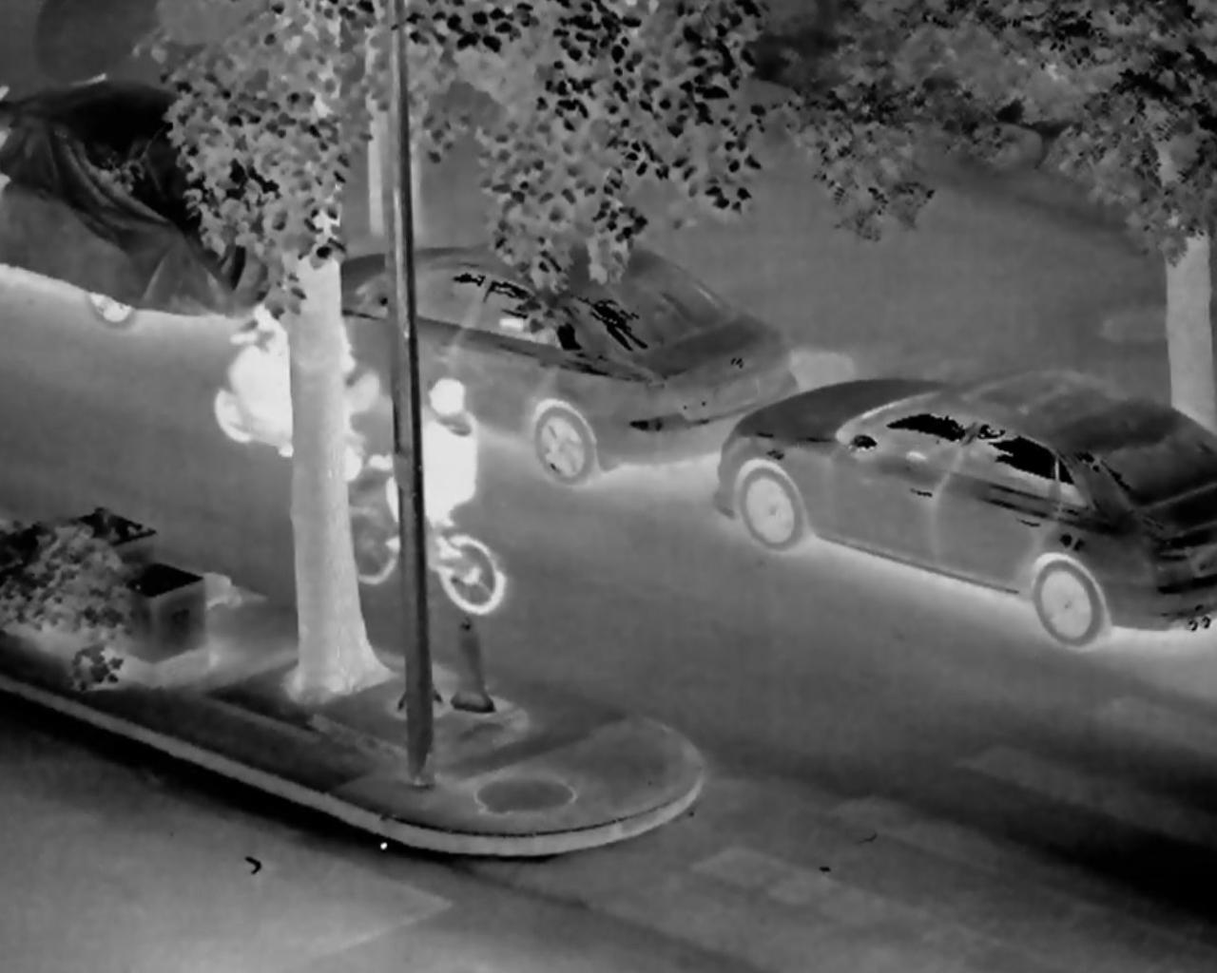person: (224, 269, 369, 481), (390, 371, 480, 554)
